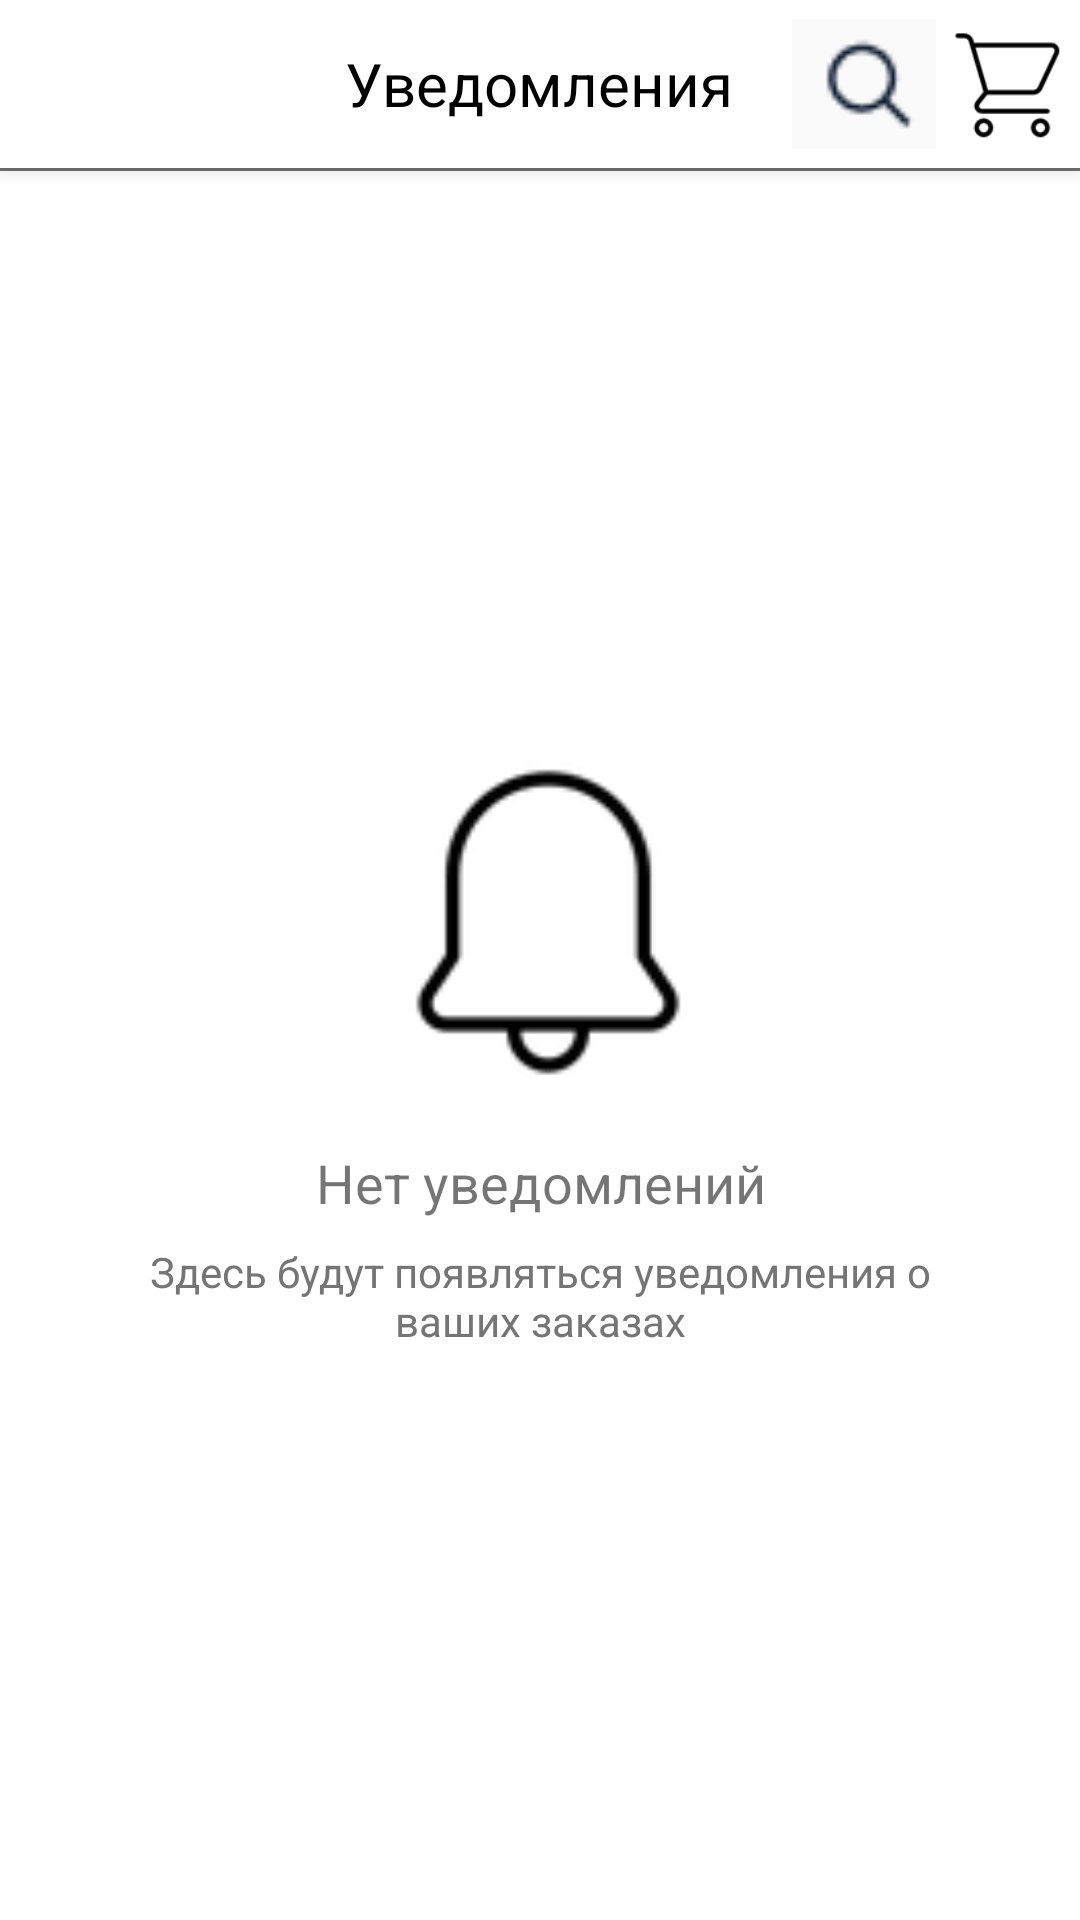

Point at icon controls on the screen. Image size 1080×1920, points as point (x, y).
cart: point (1007, 85)
search: point (868, 84)
